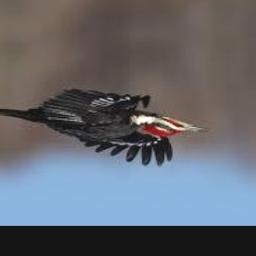Woodpecker: (0, 89, 210, 167)
